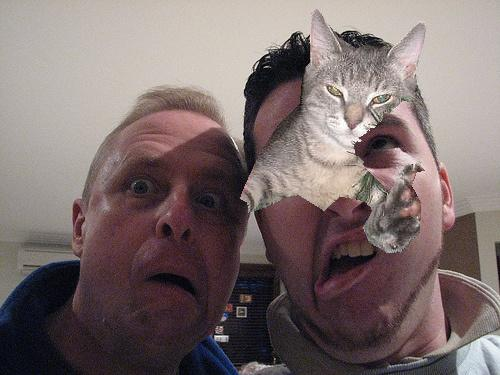tampered: (241, 9, 426, 253)
